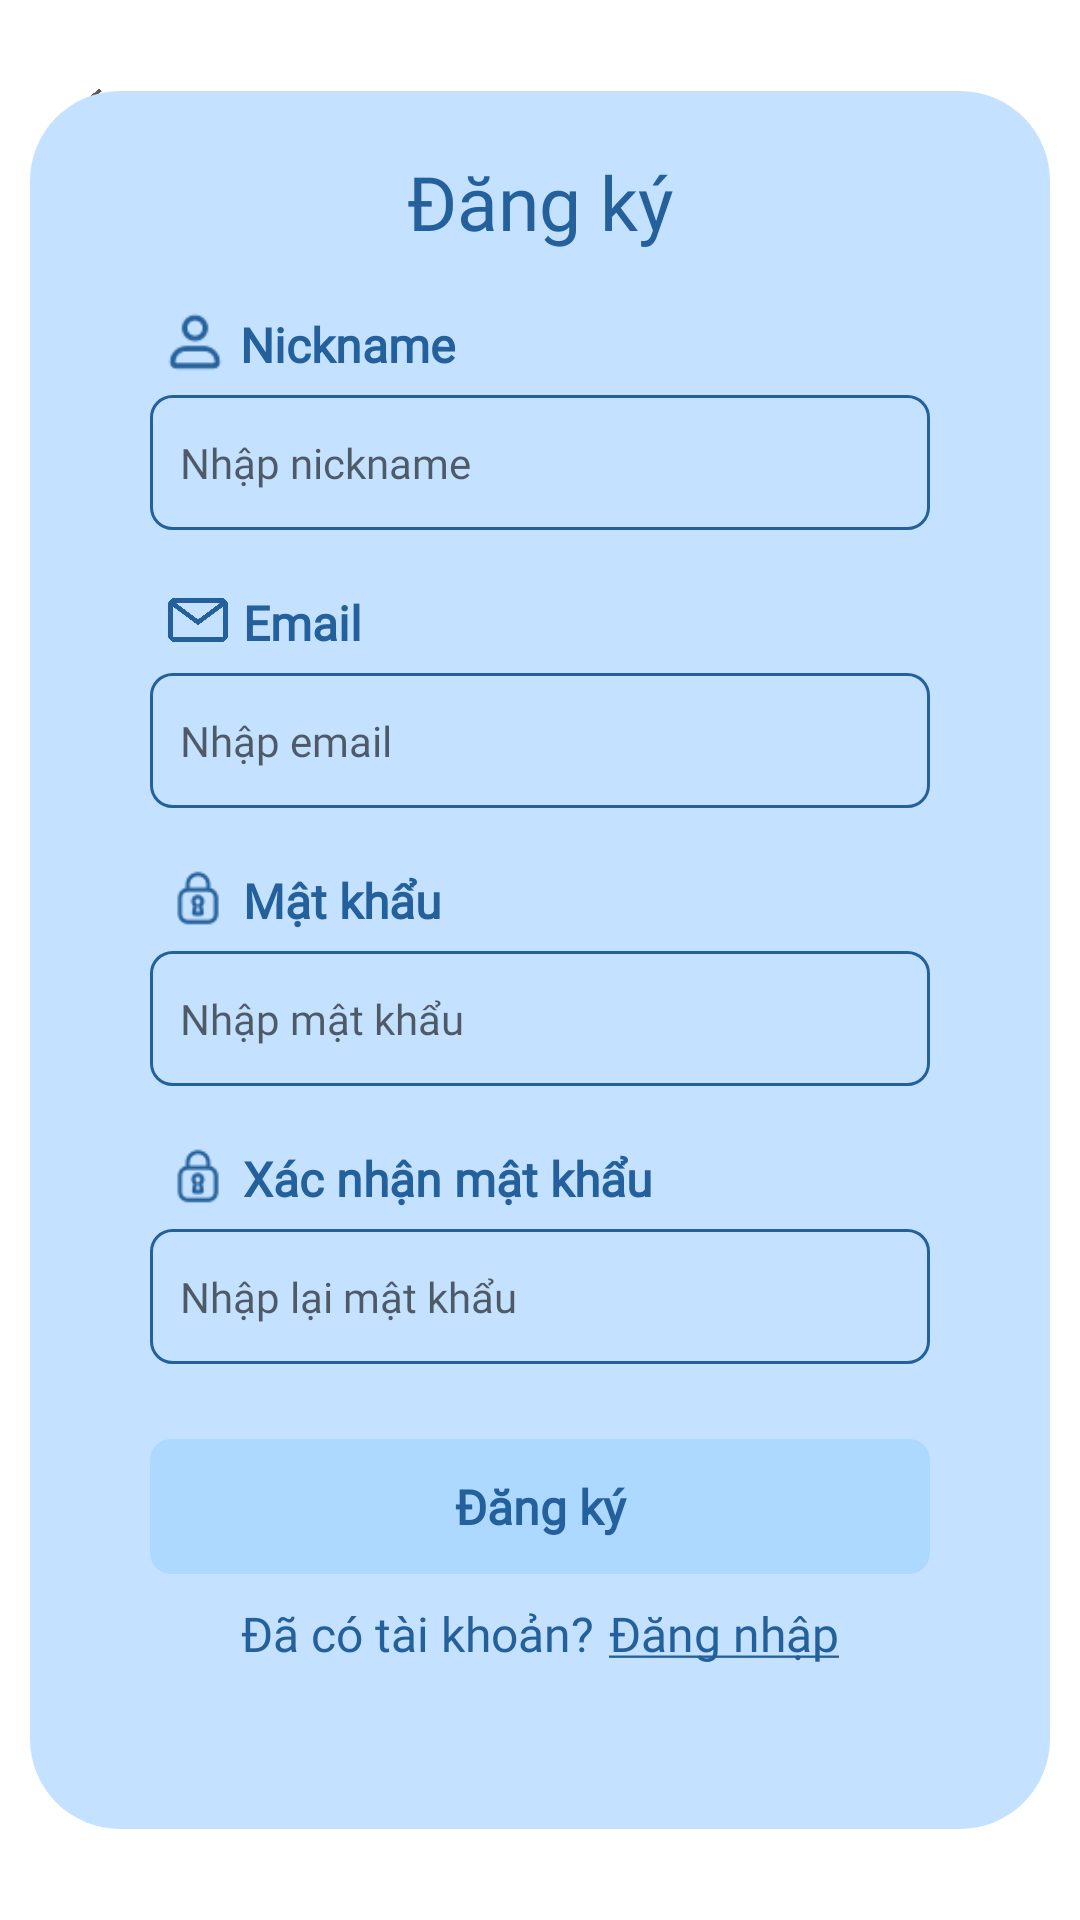

Icons on this 1080px×1920px Android screen, each with the point to tap as (x,y):
password: (198,898), (198,1176)
userinfoforlogin: (195,342)
